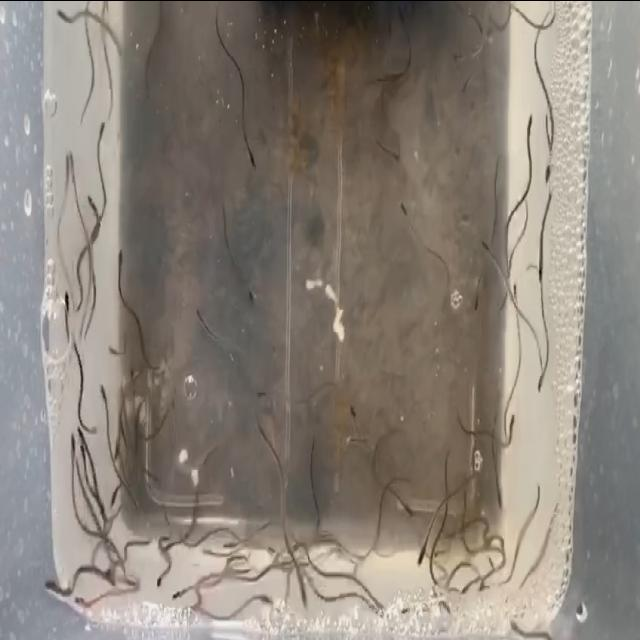inactive_glass_eel: (36, 554, 61, 612), (108, 234, 126, 292), (344, 398, 362, 448), (105, 476, 121, 530), (241, 144, 260, 189), (164, 572, 190, 604), (104, 328, 122, 373), (532, 356, 550, 400), (480, 560, 498, 603), (285, 531, 303, 573), (238, 283, 260, 317), (187, 301, 210, 333), (250, 582, 272, 614), (521, 108, 537, 149), (468, 278, 484, 318), (447, 48, 463, 88), (108, 428, 124, 468), (100, 367, 114, 411), (68, 582, 90, 610), (398, 494, 416, 528), (473, 2, 490, 36), (294, 578, 312, 610), (154, 556, 170, 592), (412, 542, 427, 576), (542, 144, 554, 184), (508, 262, 520, 302), (475, 233, 489, 267), (493, 482, 506, 518), (92, 111, 104, 147), (506, 404, 520, 432), (60, 287, 70, 321), (86, 185, 96, 218), (77, 438, 89, 458), (68, 430, 76, 460), (58, 8, 74, 22), (77, 421, 86, 438)
